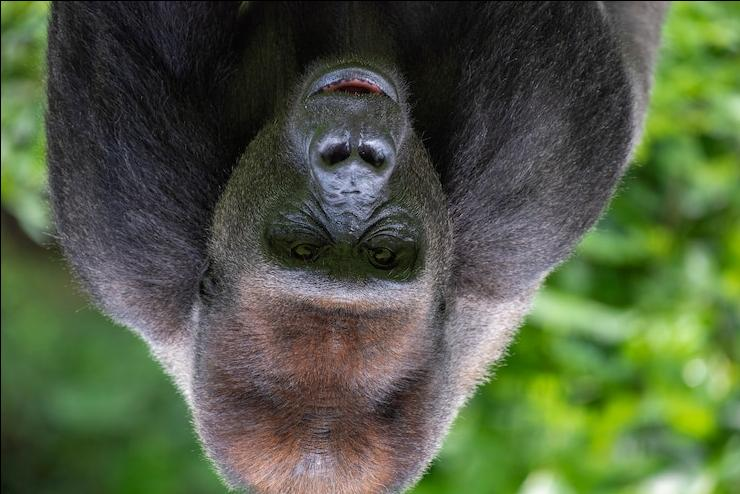gorille_Autres: (44, 0, 656, 490)
